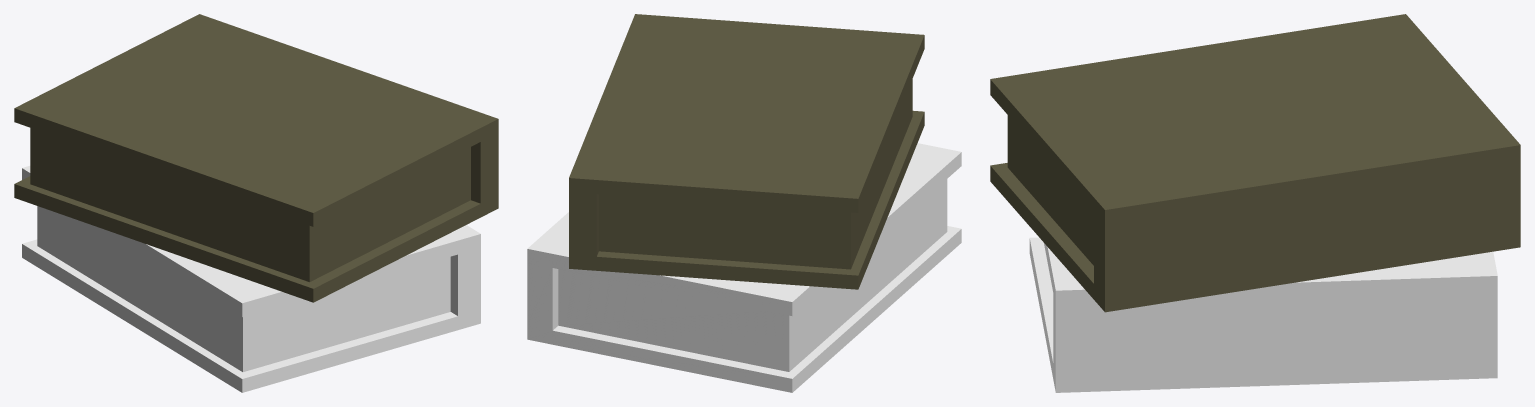
The model's file is Book4.glb.
3 renders of one model, left to right at view 1: azimuth 30°, elevation 25°; view 2: azimuth 150°, elevation 25°; view 3: azimuth 270°, elevation 25°, orthographic. The views are drawn at different scales.
Parts seen in each view (by area): view 1: Cube.050; view 2: Cube.050; view 3: Cube.050.
Part boxes in pixels (left/top/right/bottom): Cube.050: left=14, top=14, right=498, bottom=392; Cube.050: left=527, top=14, right=961, bottom=392; Cube.050: left=990, top=14, right=1520, bottom=392.
Bounding box in the file's own units: 0.2885 × 0.1404 × 0.3299.
